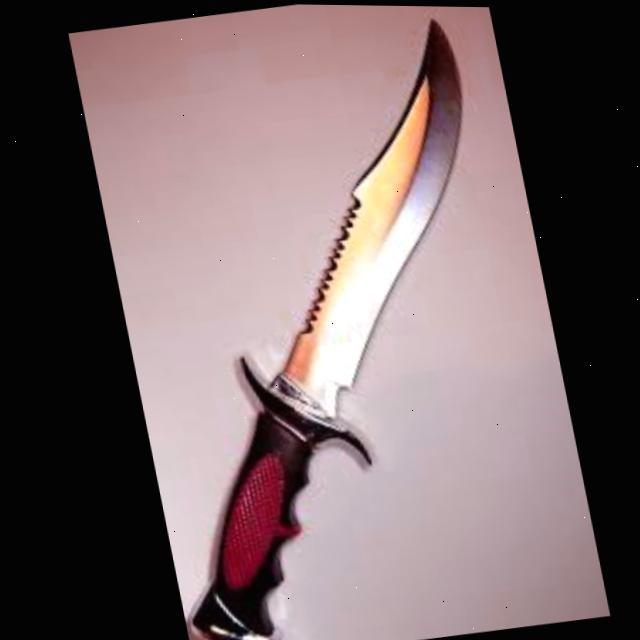Knife: (72, 8, 560, 640)
